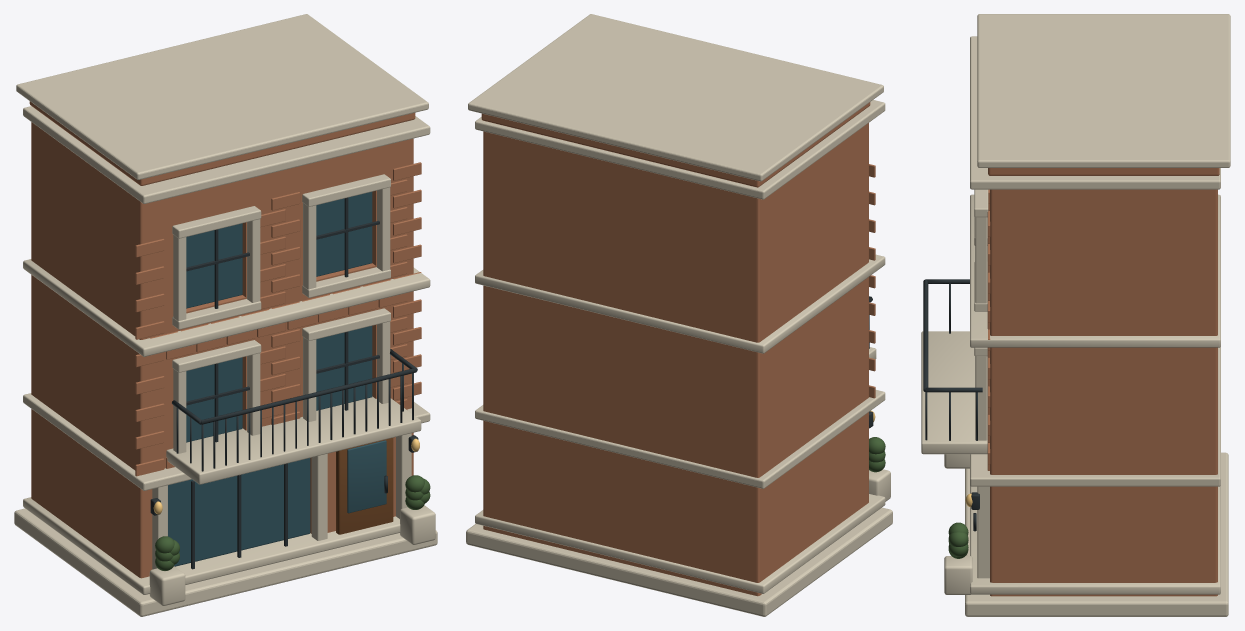
The model's file is asset.glb.
3 views of the same model, side by side, from view 1: azimuth 30°, elevation 25°; view 2: azimuth 150°, elevation 25°; view 3: azimuth 270°, elevation 25° (orthographic). The views are drawn at different scales.
Visible parts, largest first — view 1: facade, roof_cap, shop_window, balcony_floor, foundation, cornice, middle_course, base_course, upper_window_left, upper_window_right, window_right, window_left (+24 smaller); view 2: facade, roof_cap, foundation, cornice, base_course, middle_course, shop_header, parapet, planter_left; view 3: facade, roof_cap, foundation, balcony_floor, cornice, middle_course, base_course, shop_header, parapet, shop_pier_507, upper_window_right_jamb_right, planter_right (+2 smaller).
Part boxes in pixels (x1=…): facade: x1=31, y1=122, x2=413, y2=578; roof_cap: x1=16, y1=14, x2=428, y2=179; shop_window: x1=168, y1=458, x2=310, y2=566; balcony_floor: x1=166, y1=396, x2=421, y2=484; foundation: x1=14, y1=508, x2=437, y2=616; cornice: x1=23, y1=106, x2=430, y2=203; middle_course: x1=23, y1=259, x2=430, y2=356; base_course: x1=23, y1=497, x2=400, y2=594; upper_window_left: x1=186, y1=223, x2=242, y2=308; upper_window_right: x1=316, y1=192, x2=372, y2=276; window_right: x1=316, y1=326, x2=372, y2=410; window_left: x1=186, y1=357, x2=242, y2=442; facade: x1=483, y1=123, x2=868, y2=596; roof_cap: x1=468, y1=14, x2=883, y2=181; foundation: x1=466, y1=507, x2=892, y2=616; cornice: x1=475, y1=100, x2=885, y2=199; base_course: x1=475, y1=494, x2=885, y2=593; middle_course: x1=475, y1=254, x2=885, y2=353; shop_header: x1=475, y1=390, x2=885, y2=488; parapet: x1=481, y1=102, x2=870, y2=187; planter_left: x1=869, y1=469, x2=890, y2=501; facade: x1=990, y1=189, x2=1217, y2=596; roof_cap: x1=977, y1=14, x2=1230, y2=167; foundation: x1=965, y1=452, x2=1228, y2=616; balcony_floor: x1=921, y1=331, x2=987, y2=454; cornice: x1=970, y1=36, x2=1220, y2=189; middle_course: x1=970, y1=194, x2=1220, y2=347; base_course: x1=970, y1=485, x2=1220, y2=594; shop_header: x1=970, y1=346, x2=1220, y2=486; parapet: x1=988, y1=168, x2=1219, y2=175; shop_pier_507: x1=977, y1=486, x2=989, y2=578; upper_window_right_jamb_right: x1=975, y1=217, x2=987, y2=303; planter_right: x1=944, y1=556, x2=972, y2=594.
Bounding box in the file's own units: 5 × 7.05 × 4.33.
